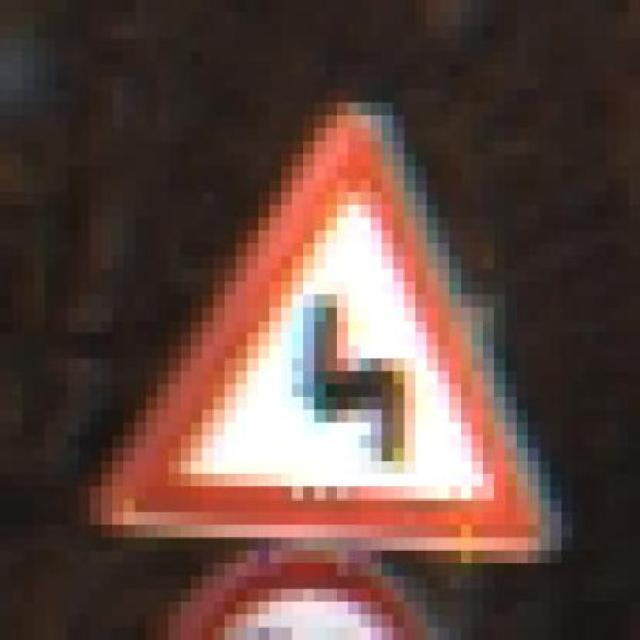Left Zig Zag Traffic: (89, 102, 562, 576)
